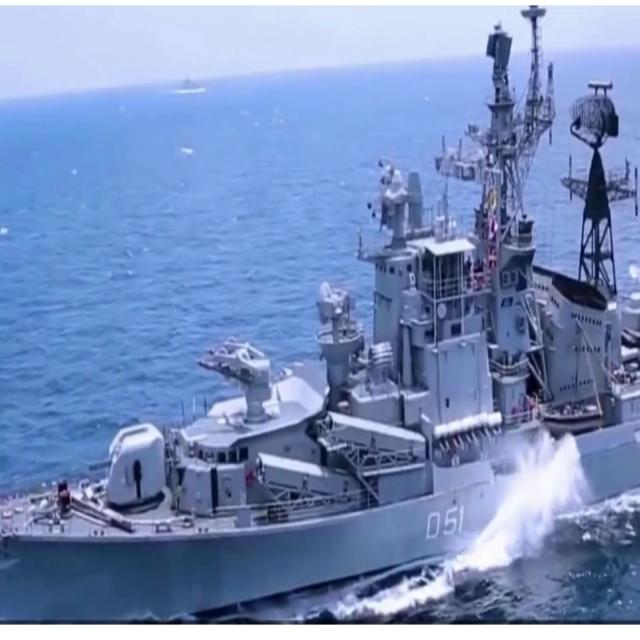OCR: (421, 497, 467, 548)
